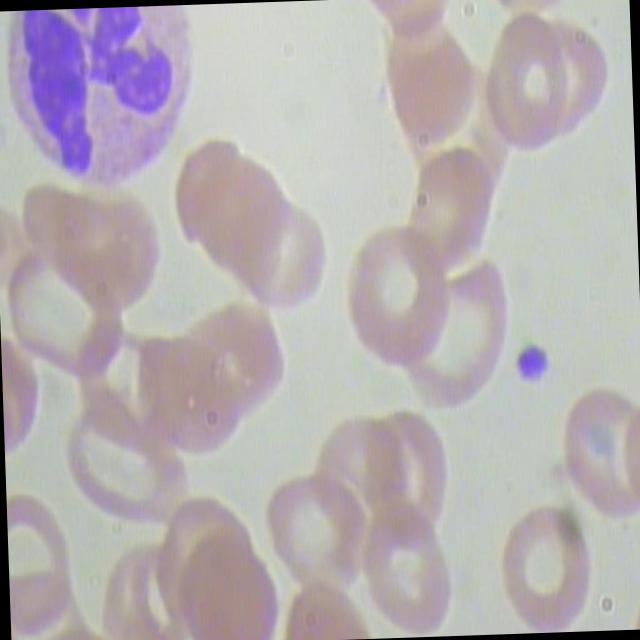Platelets: (508, 336, 556, 392)
RBC: (56, 392, 188, 548), (400, 254, 514, 418), (342, 218, 456, 375), (372, 12, 484, 168), (2, 250, 128, 388), (258, 468, 377, 606), (353, 508, 463, 638), (401, 146, 503, 286), (486, 508, 599, 633), (482, 11, 572, 159), (550, 377, 639, 525)
WBC: (0, 6, 220, 210)
